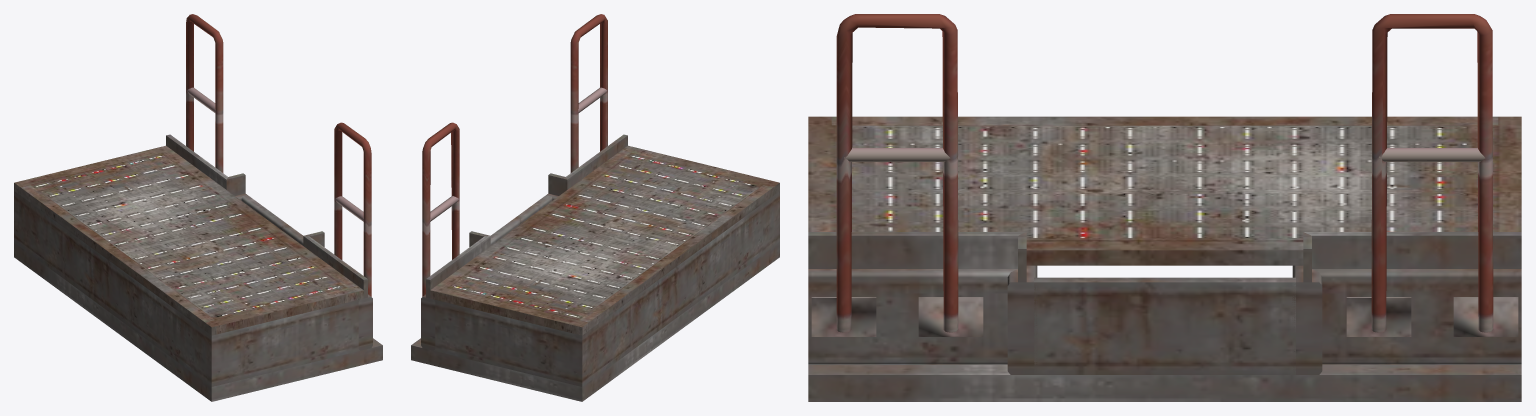
The model's file is walkway_b_300x150_tjunction.glb.
The picture shows the model from 3 angles, left to right: view 1: azimuth 30°, elevation 25°; view 2: azimuth 150°, elevation 25°; view 3: azimuth 270°, elevation 25°; orthographic projection. The views are drawn at different scales.
Parts seen in each view (by area): view 1: walkway_b_300x150_tjunction; view 2: walkway_b_300x150_tjunction; view 3: walkway_b_300x150_tjunction.
Part boxes in pixels (bbox=[...]): walkway_b_300x150_tjunction: bbox=[14, 14, 382, 401]; walkway_b_300x150_tjunction: bbox=[411, 14, 779, 401]; walkway_b_300x150_tjunction: bbox=[808, 14, 1521, 401].
Size of the model in its own units: 1.5 by 1.78 by 3.
Materials: 1 (1 with a texture image).
